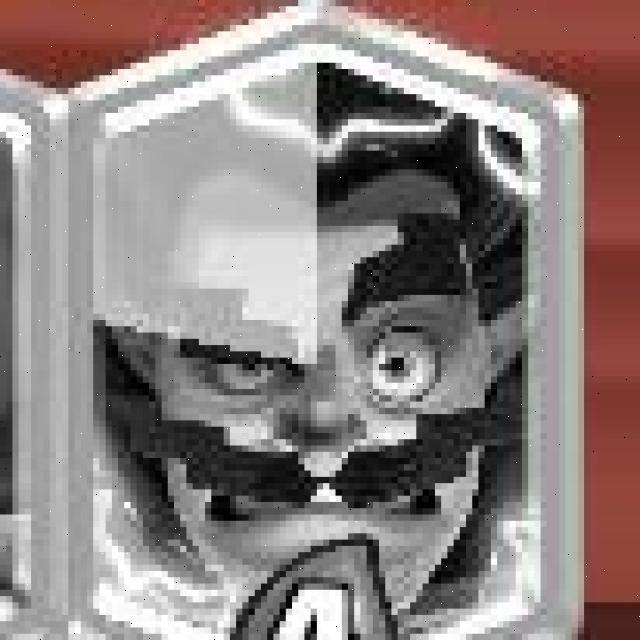Electro_Wizard: (70, 10, 586, 640)
